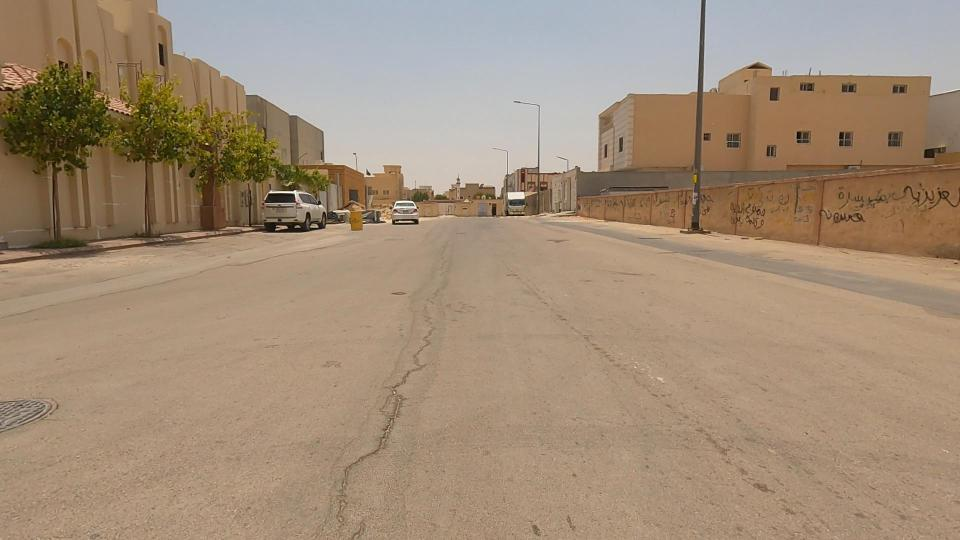GRAFFITI: (772, 167, 960, 228), (799, 187, 890, 252), (620, 170, 712, 232), (693, 183, 784, 243), (583, 184, 643, 222)
POTHOLES: (250, 314, 517, 539)
